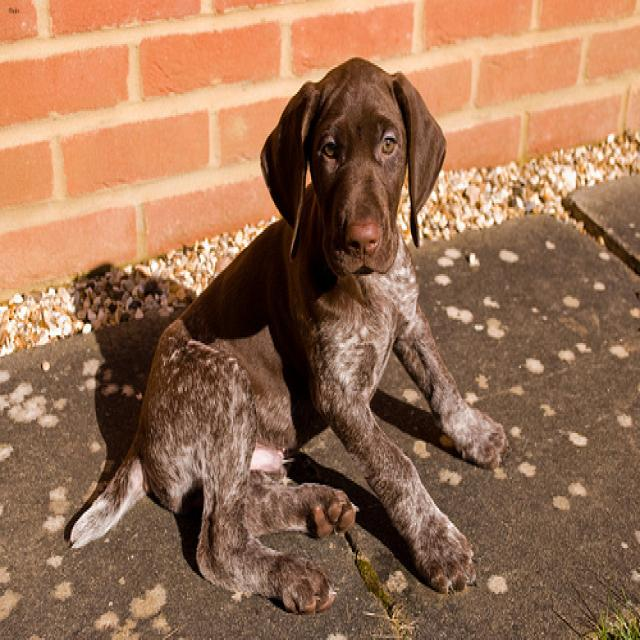dog-german_shorthaired: (58, 50, 513, 625)
